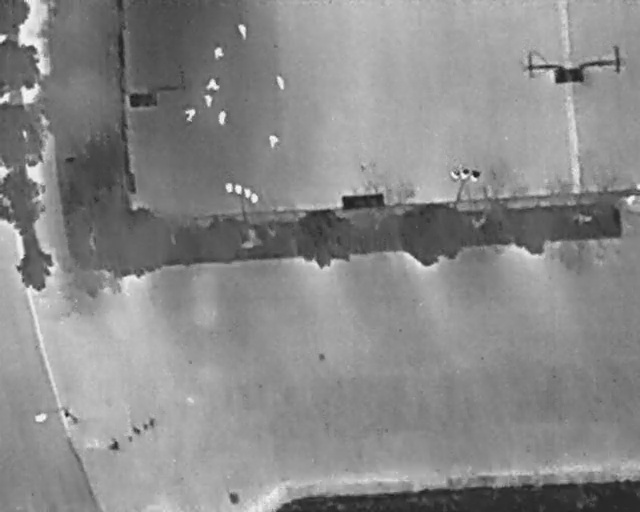Person: (274, 74, 286, 91), (238, 22, 247, 41), (207, 78, 220, 91), (217, 109, 227, 125), (268, 134, 279, 148), (185, 109, 196, 122), (214, 46, 224, 60), (204, 94, 213, 108)
